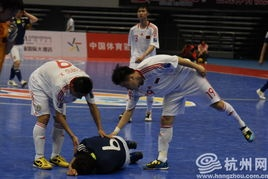falling: (59, 130, 148, 176)
